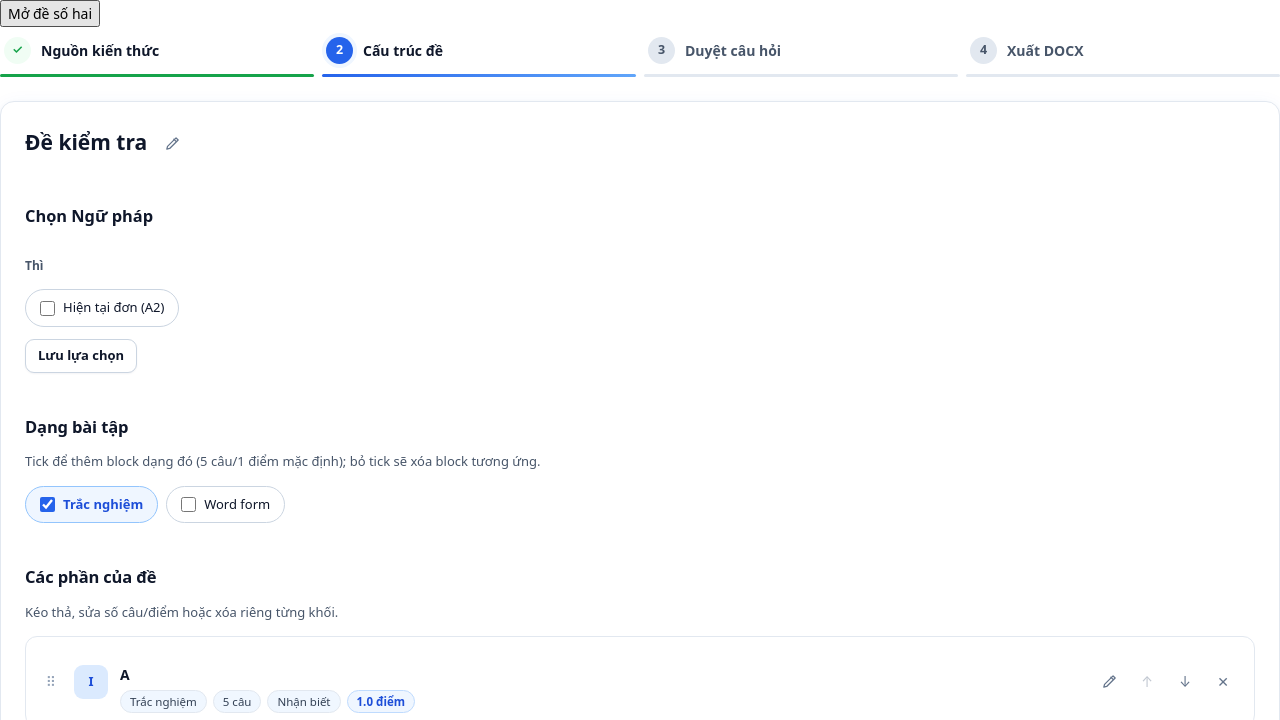
Scenario: ExamBuilderPage › shows no sub-part section for types without parts
Click the button named "Chỉnh sửa A" at (1109, 682), box [1092, 665, 1126, 699]
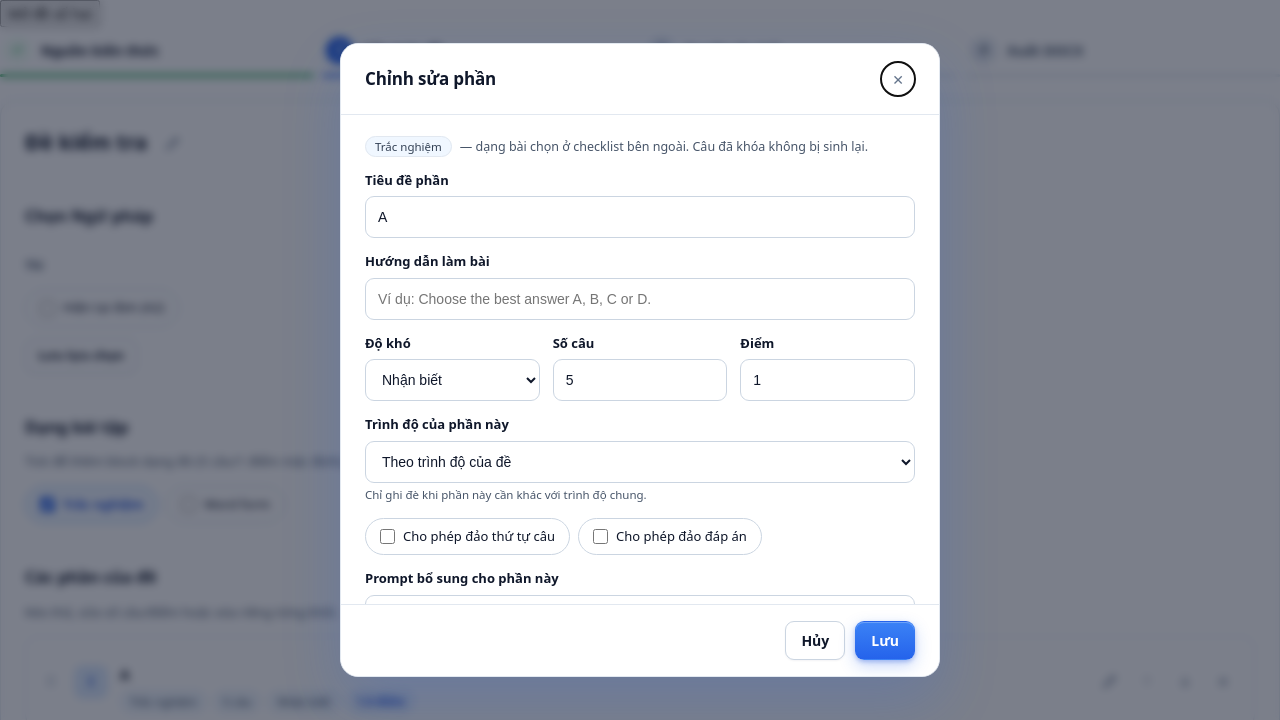
Check: the number field labelled "Số câu" is enabled, box [553, 360, 727, 402]
